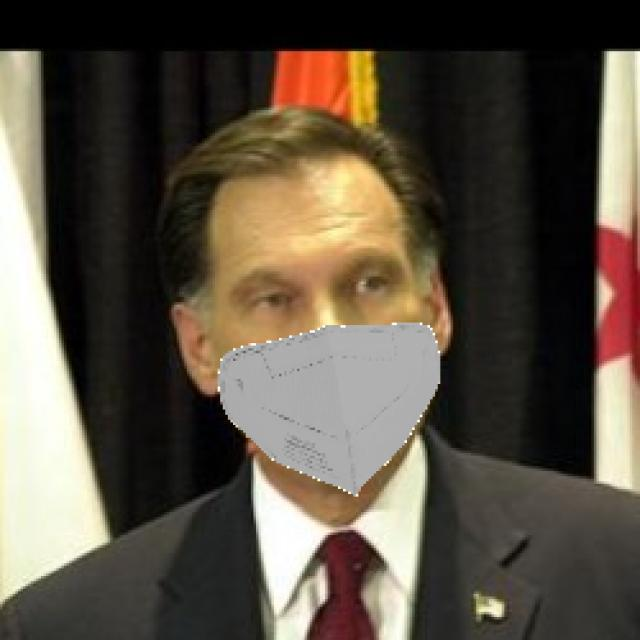kn95: (196, 165, 436, 497)
